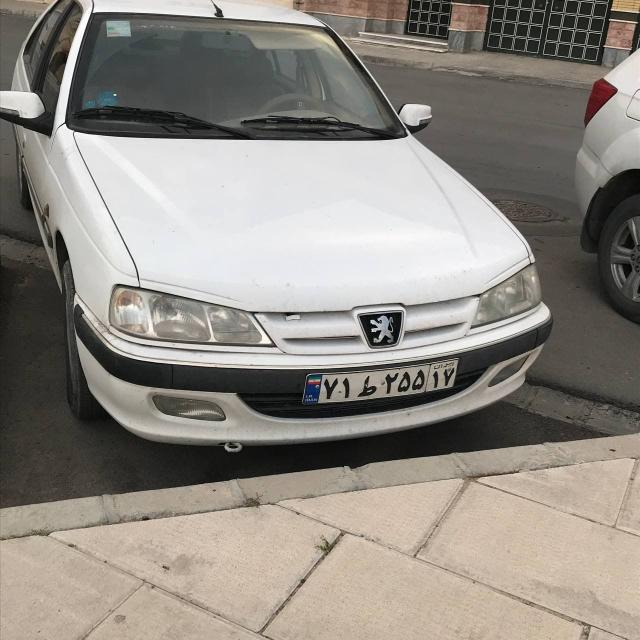Plates: (299, 358, 462, 407)
